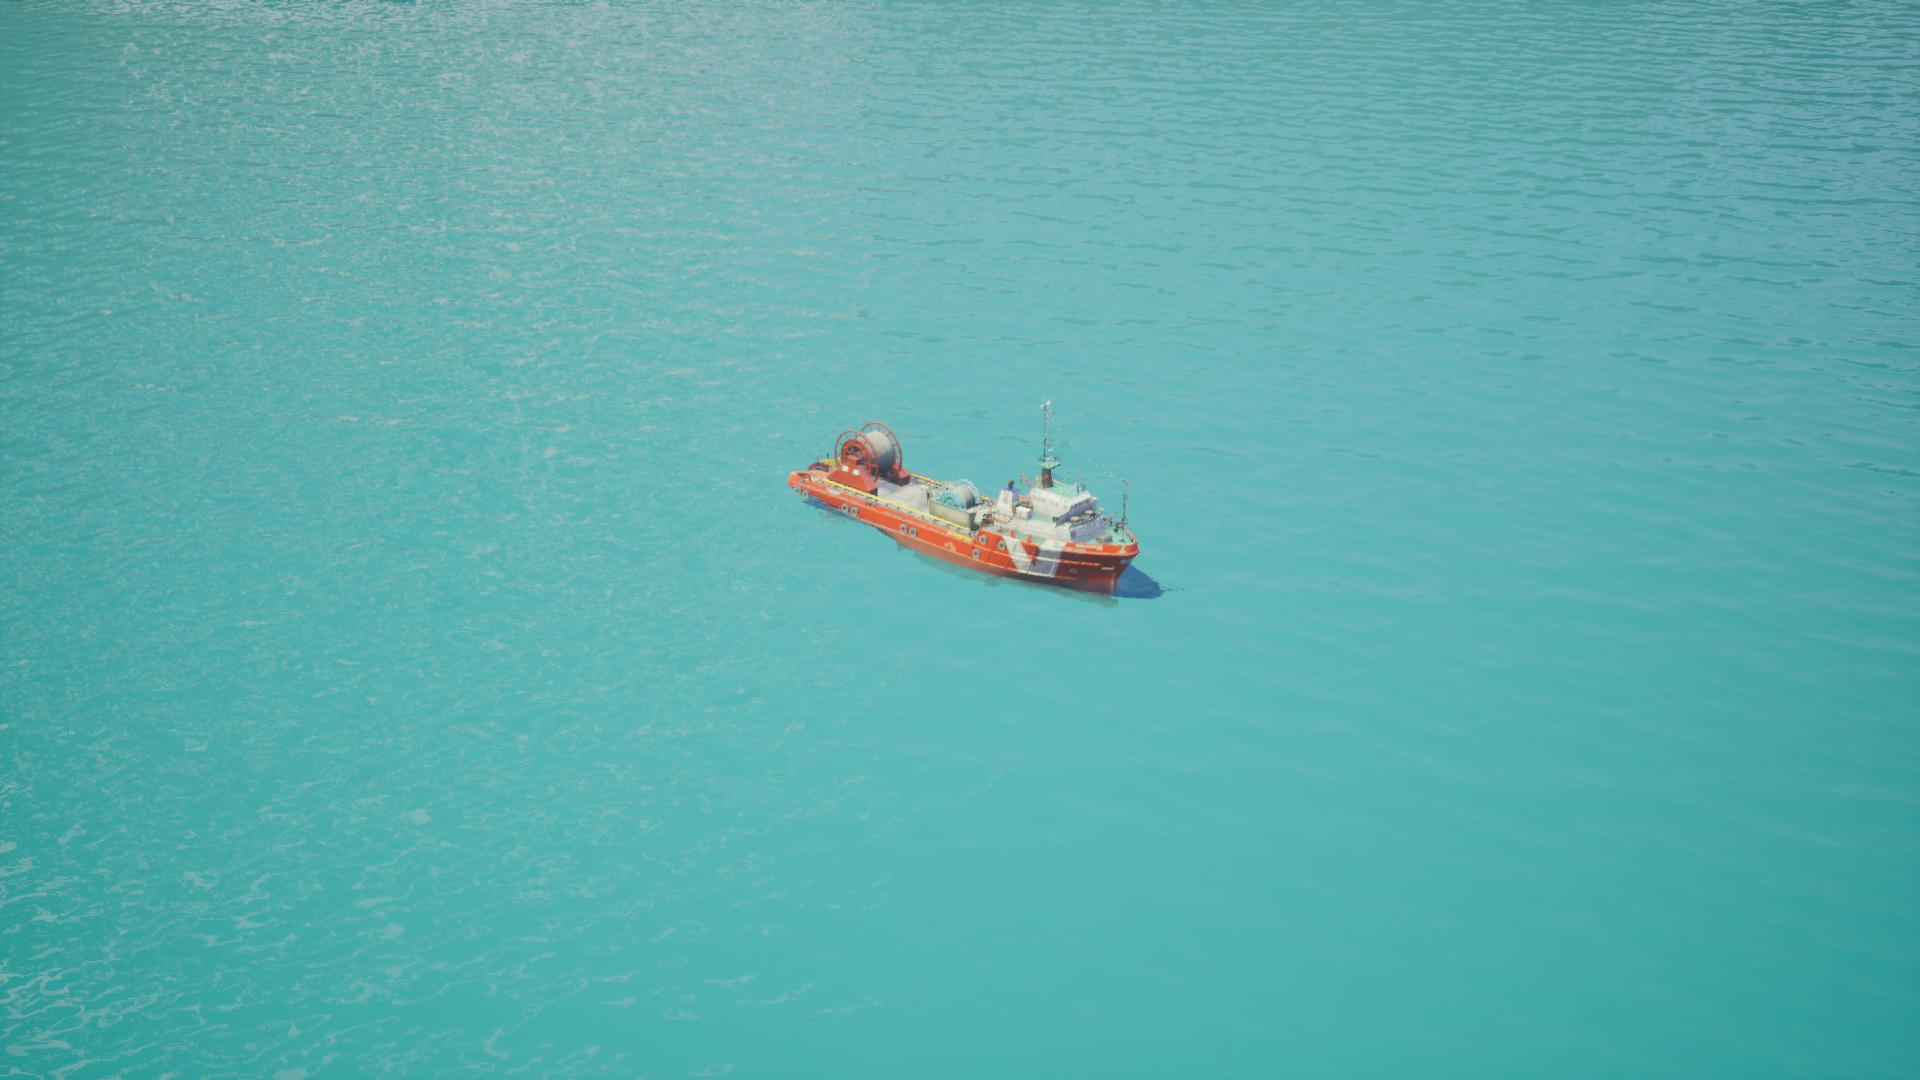Tug Boat: (789, 460, 1156, 608)
